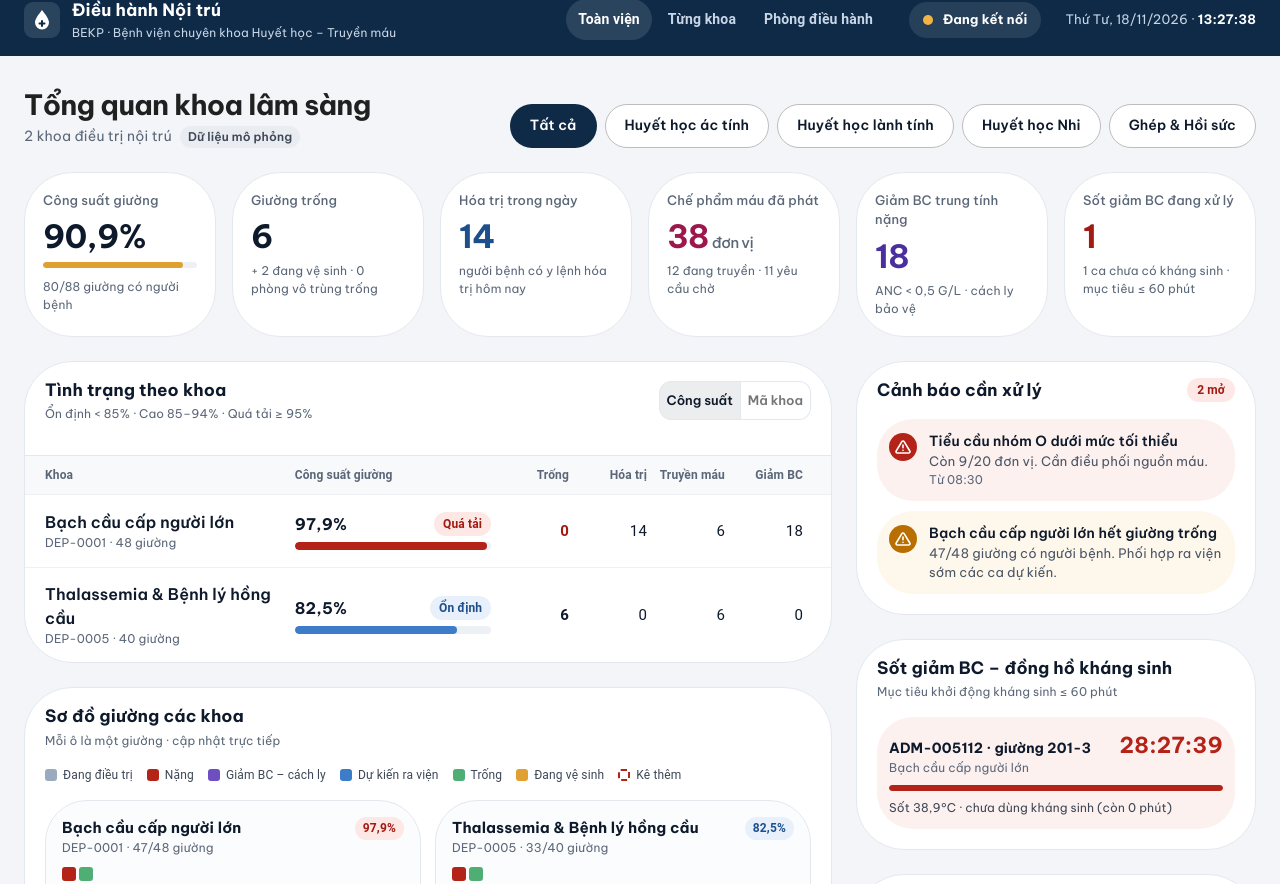
Test: OverviewPage › loads the overview and filters KPI totals by department group
expect the heading "Tổng quan khoa lâm sàng" is shown: met, box [24,84,370,126]
expect the text "90,9%" is shown: met, box [43,216,146,256]
Click the button "Huyết học lành tính": (866, 126) [777,104,954,148]
(page scrolled)
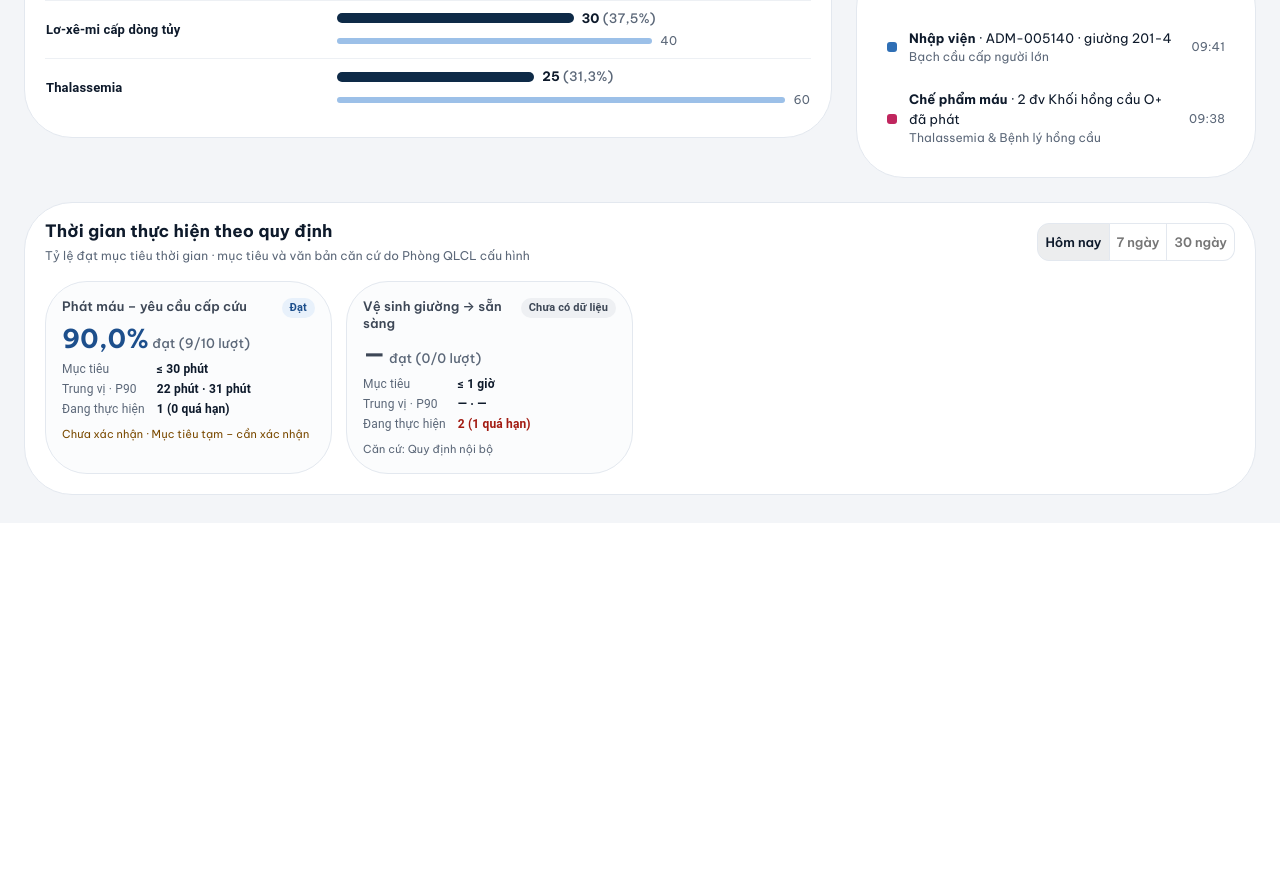
expect the text "Phát máu – yêu cầu cấp cứu" is shown: met, box [62,298,247,315]
expect the text "Chưa xác nhận · Mục tiêu tạm – cần xác nhận" is shown: met, box [62,426,315,443]
